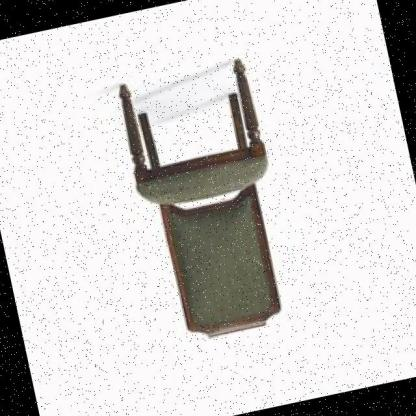Chair: (96, 36, 319, 365)
